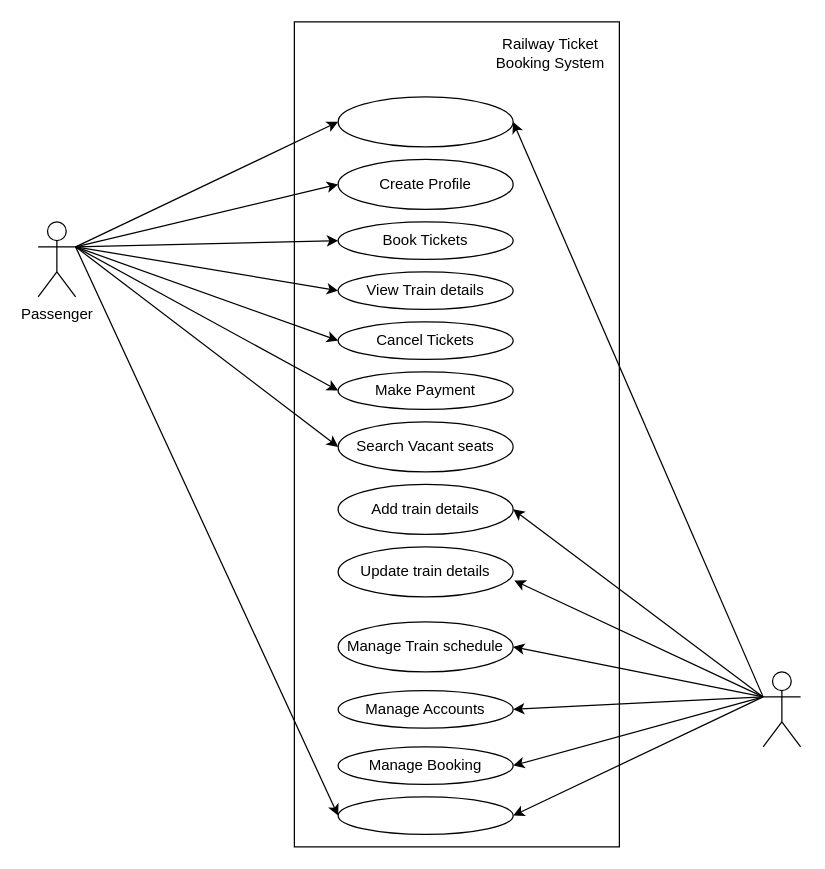
Some shapes in this 825 by 869 pixel diagram are drawn without their labels. Here are the shapes that lost their labels. From the top down, the centre of each, then its label:
At [425,121]: "Login".
At [781,709]: "Admin".
At [425,815]: "Logout".
